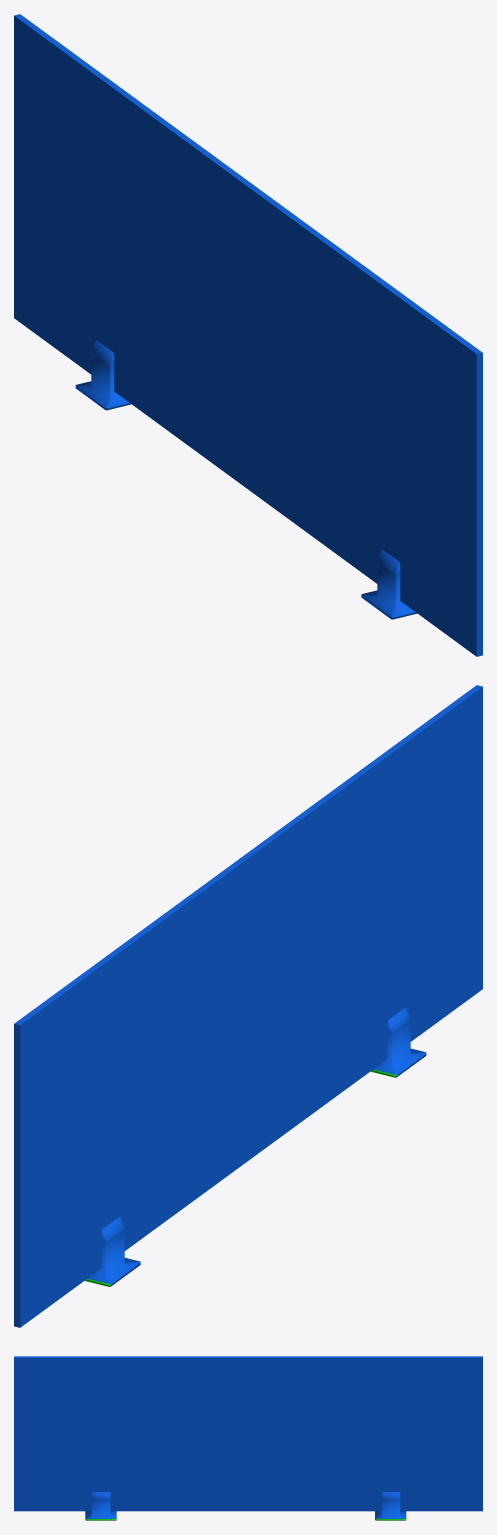
Rendered from Handrail_Glass_low.fbx.
The picture shows the model from 3 angles, top to bottom: view 1: azimuth 30°, elevation 25°; view 2: azimuth 150°, elevation 25°; view 3: azimuth 270°, elevation 25°; orthographic projection. The views are drawn at different scales.
Parts seen in each view (by area): view 1: Handrail_Glass_low; view 2: Handrail_Glass_low; view 3: Handrail_Glass_low.
Boxes of the visible parts, box(x1,y1,x2,y2) form: Handrail_Glass_low: box(14, 14, 482, 656); Handrail_Glass_low: box(14, 685, 482, 1327); Handrail_Glass_low: box(14, 1356, 482, 1520).
Bounding box in the file's own units: 13.35 × 114 × 305.
